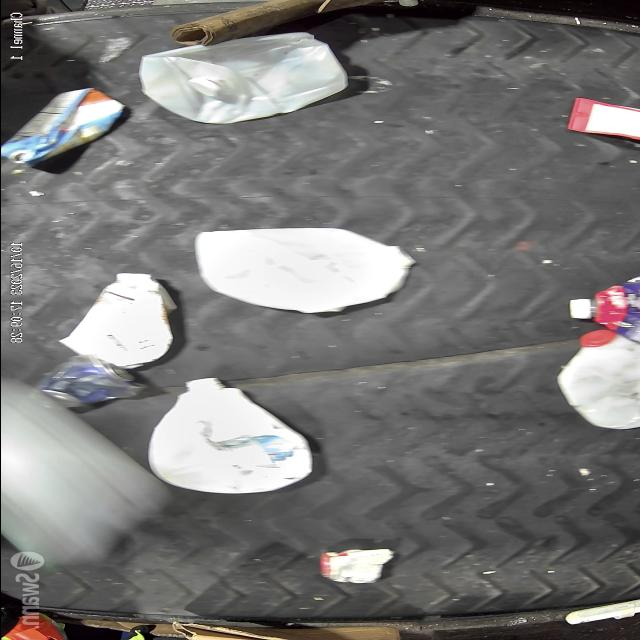can: (44, 358, 130, 411), (312, 546, 392, 584)
milk_jug: (185, 222, 422, 318), (144, 372, 306, 496), (136, 33, 344, 122), (557, 331, 640, 428)
non_white_jug: (0, 92, 108, 166)
